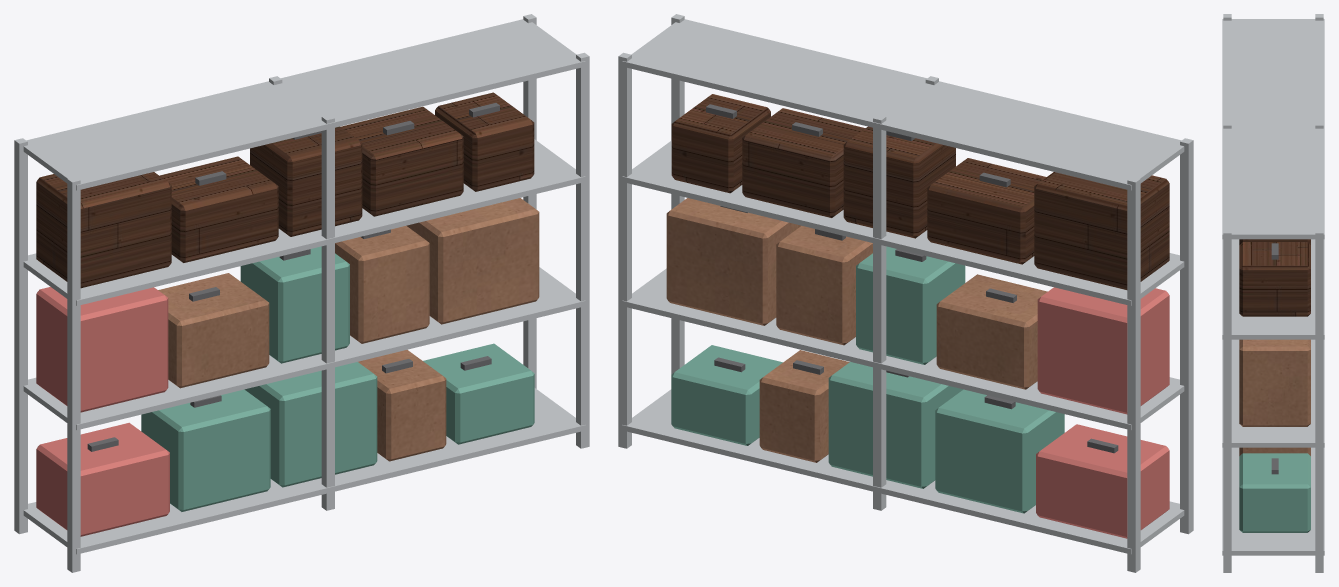
File: bag_shelf.glb
3 views of the same model, side by side, from view 1: azimuth 30°, elevation 25°; view 2: azimuth 150°, elevation 25°; view 3: azimuth 270°, elevation 25° (orthographic). The views are drawn at different scales.
Visible parts, largest first — view 1: bag_shelf_steel, bag_shelf_dkwood, bag_shelf_vinyl_g, bag_shelf_lino, bag_shelf_vinyl_r, bag_shelf_dark; view 2: bag_shelf_steel, bag_shelf_dkwood, bag_shelf_vinyl_g, bag_shelf_lino, bag_shelf_vinyl_r, bag_shelf_dark; view 3: bag_shelf_steel, bag_shelf_lino, bag_shelf_vinyl_g, bag_shelf_dkwood, bag_shelf_dark.
Boxes of the visible parts, box(x1,y1,x2,y2) form: bag_shelf_steel: box(14, 14, 589, 572); bag_shelf_dkwood: box(36, 92, 534, 288); bag_shelf_vinyl_g: box(141, 246, 534, 511); bag_shelf_lino: box(158, 198, 539, 461); bag_shelf_vinyl_r: box(36, 287, 169, 536); bag_shelf_dark: box(87, 103, 499, 451); bag_shelf_steel: box(618, 14, 1193, 572); bag_shelf_dkwood: box(671, 94, 1169, 289); bag_shelf_vinyl_g: box(671, 246, 1064, 513); bag_shelf_lino: box(666, 198, 1047, 462); bag_shelf_vinyl_r: box(1036, 287, 1169, 538); bag_shelf_dark: box(706, 104, 1118, 453); bag_shelf_steel: box(1222, 14, 1324, 572); bag_shelf_lino: box(1239, 339, 1310, 455); bag_shelf_vinyl_g: box(1239, 453, 1310, 532); bag_shelf_dkwood: box(1239, 239, 1310, 316); bag_shelf_dark: box(1271, 243, 1278, 474).
Size of the model in its own units: 3.05 by 2.2 by 0.6.
6 materials, 2 textured.
